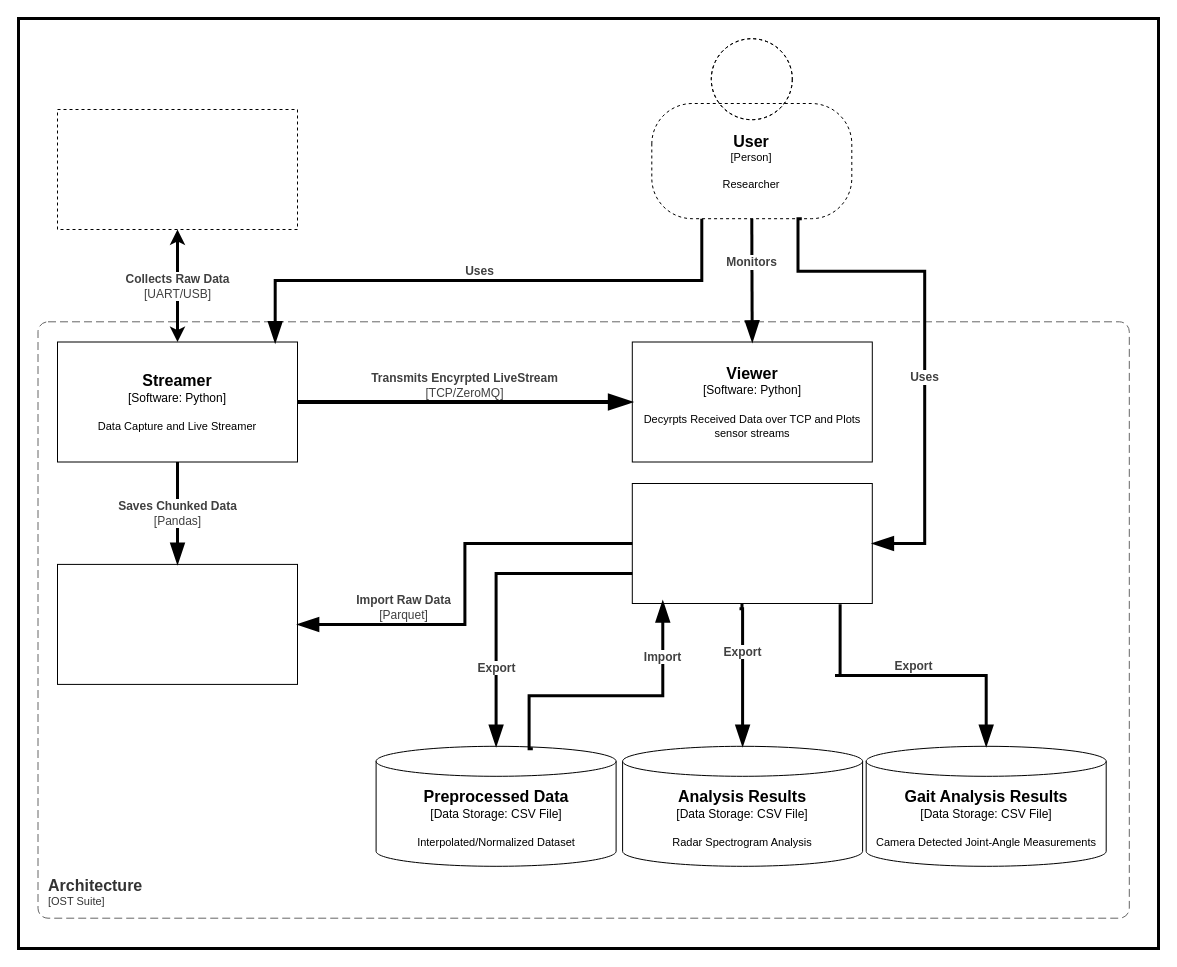
Some shapes in this 1177 by 967 pixel diagram are drawn without their labels. The box of each missing label's shape, as (x1, y1, x2, y2) in pixels:
Data Storage [Storage: Parquet] Separate files for each sensor: (56, 563, 298, 684)
Sensors [Hardware] Camera and Radar sensors: (56, 108, 298, 230)
Studio [Software: Streamlit] Analyses Raw data for feature extraction: (631, 482, 872, 604)
